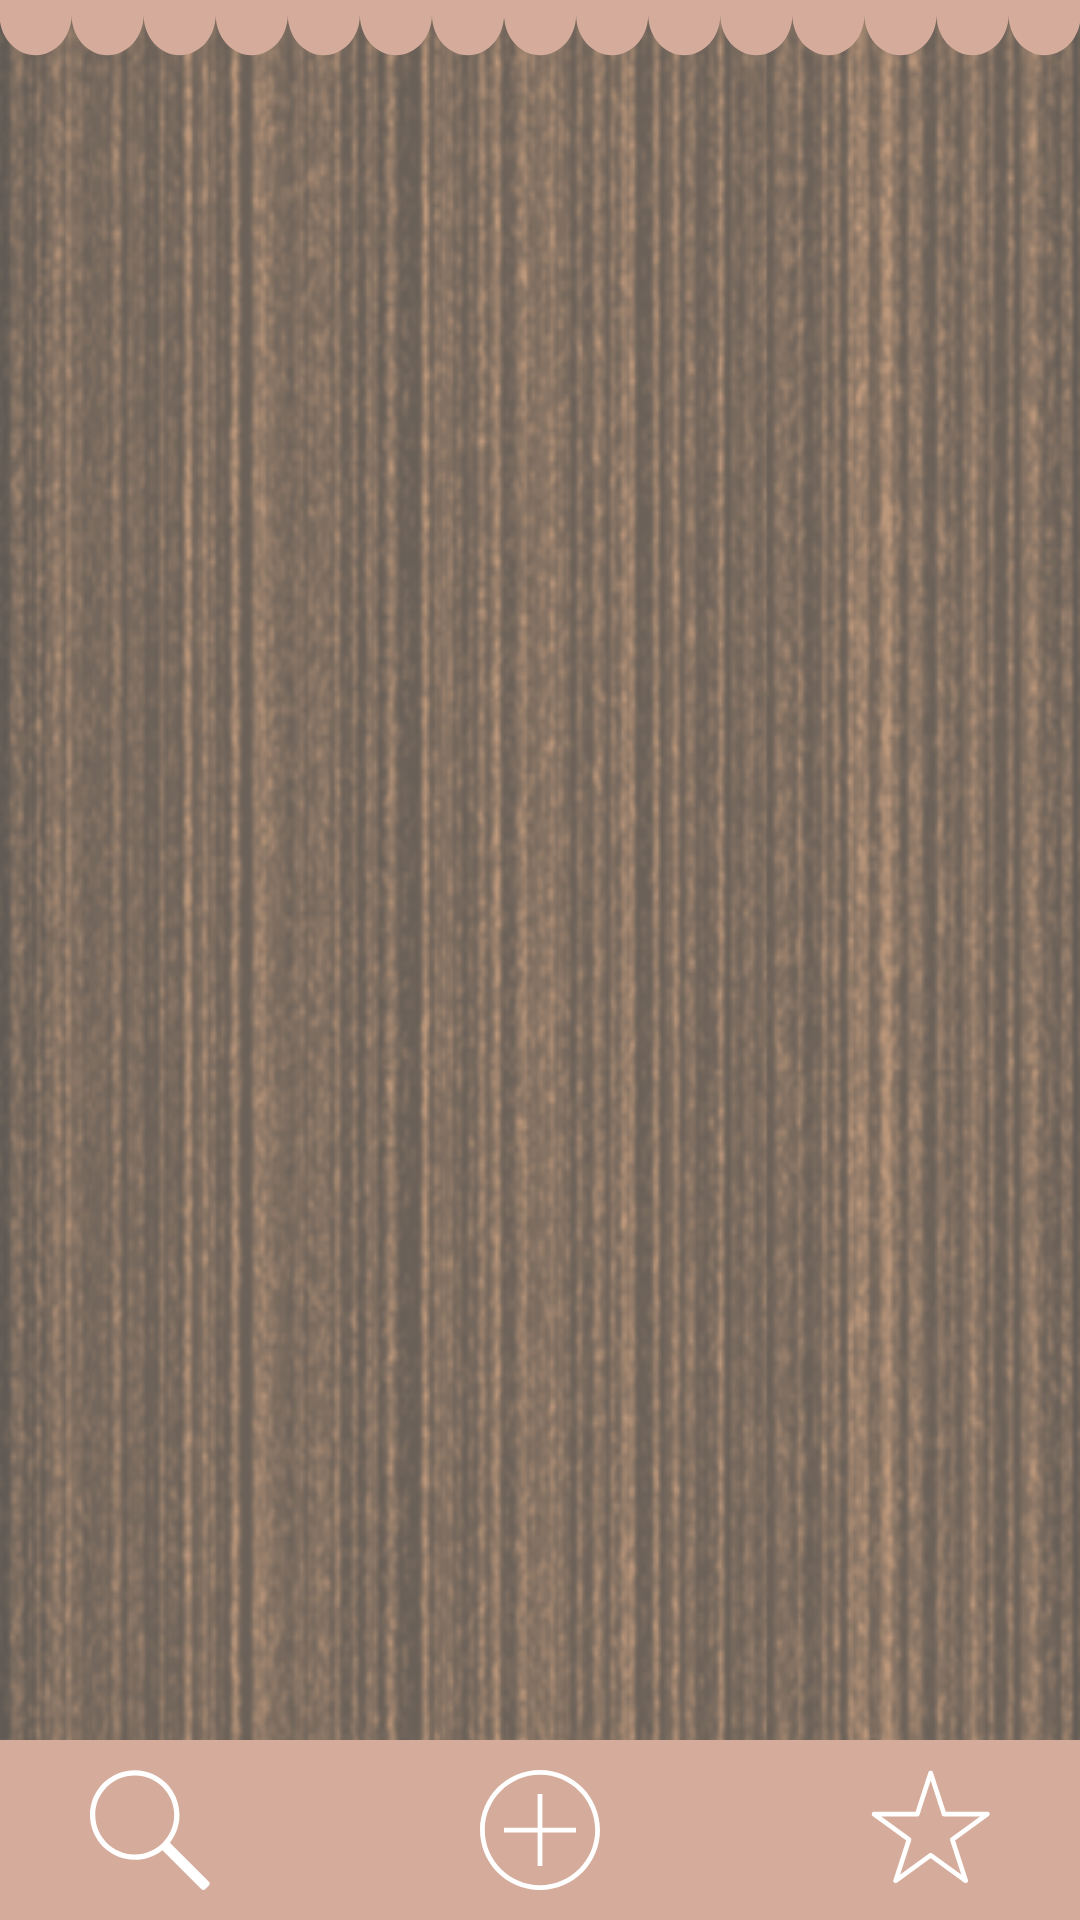

Where to tap for icons on this 1080*1920 app screen, as [x,y]:
Create Button: [540,1830]
Search Button: [150,1830]
Star Button: [931,1827]
